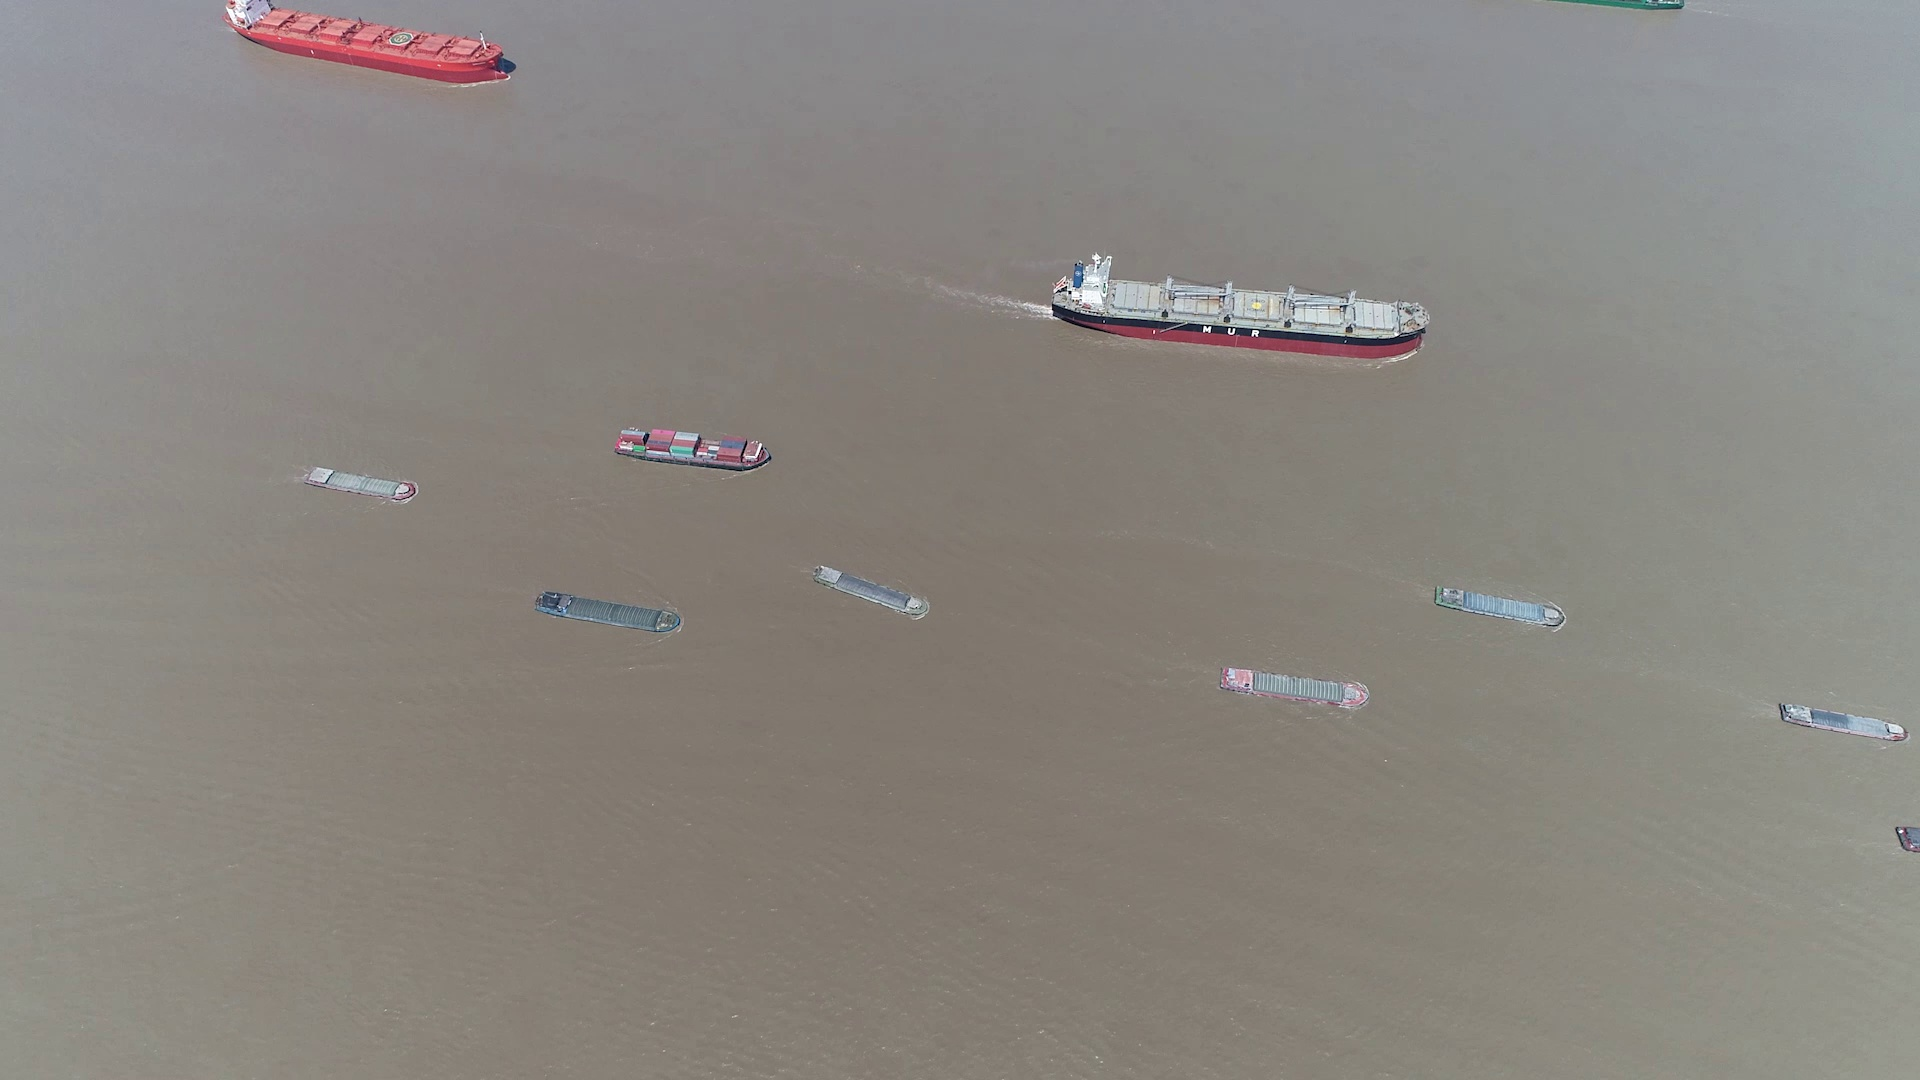ship: (1051, 257, 1432, 355), (224, 0, 517, 82), (616, 429, 773, 472), (535, 592, 684, 636), (1218, 666, 1371, 708), (814, 567, 927, 617), (1432, 585, 1564, 628), (1778, 702, 1905, 742), (305, 465, 418, 501), (1563, 0, 1680, 11)
